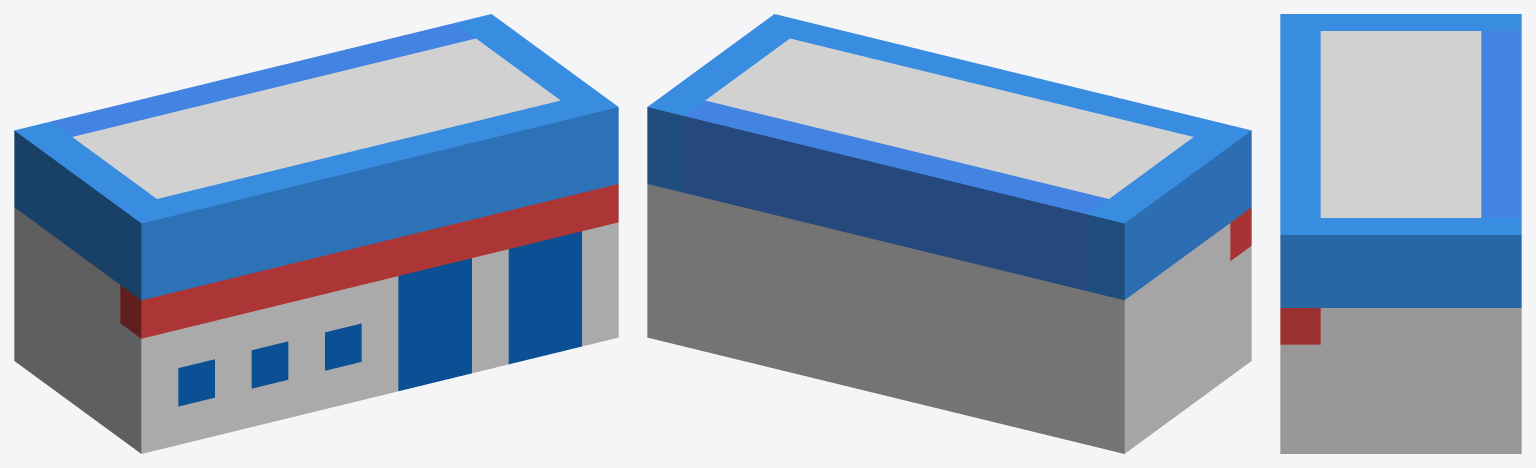
The model's file is Lowson.fbx.
The picture shows the model from 3 angles, left to right: view 1: azimuth 30°, elevation 25°; view 2: azimuth 150°, elevation 25°; view 3: azimuth 270°, elevation 25°; orthographic projection. The views are drawn at different scales.
Parts seen in each view (by area): view 1: Lowson; view 2: Lowson; view 3: Lowson.
Boxes of the visible parts, bbox=[...] form: Lowson: bbox=[14, 14, 618, 453]; Lowson: bbox=[647, 14, 1251, 453]; Lowson: bbox=[1280, 14, 1521, 453].
Size of the model in its own units: 8.27 by 3.82 by 3.82.
